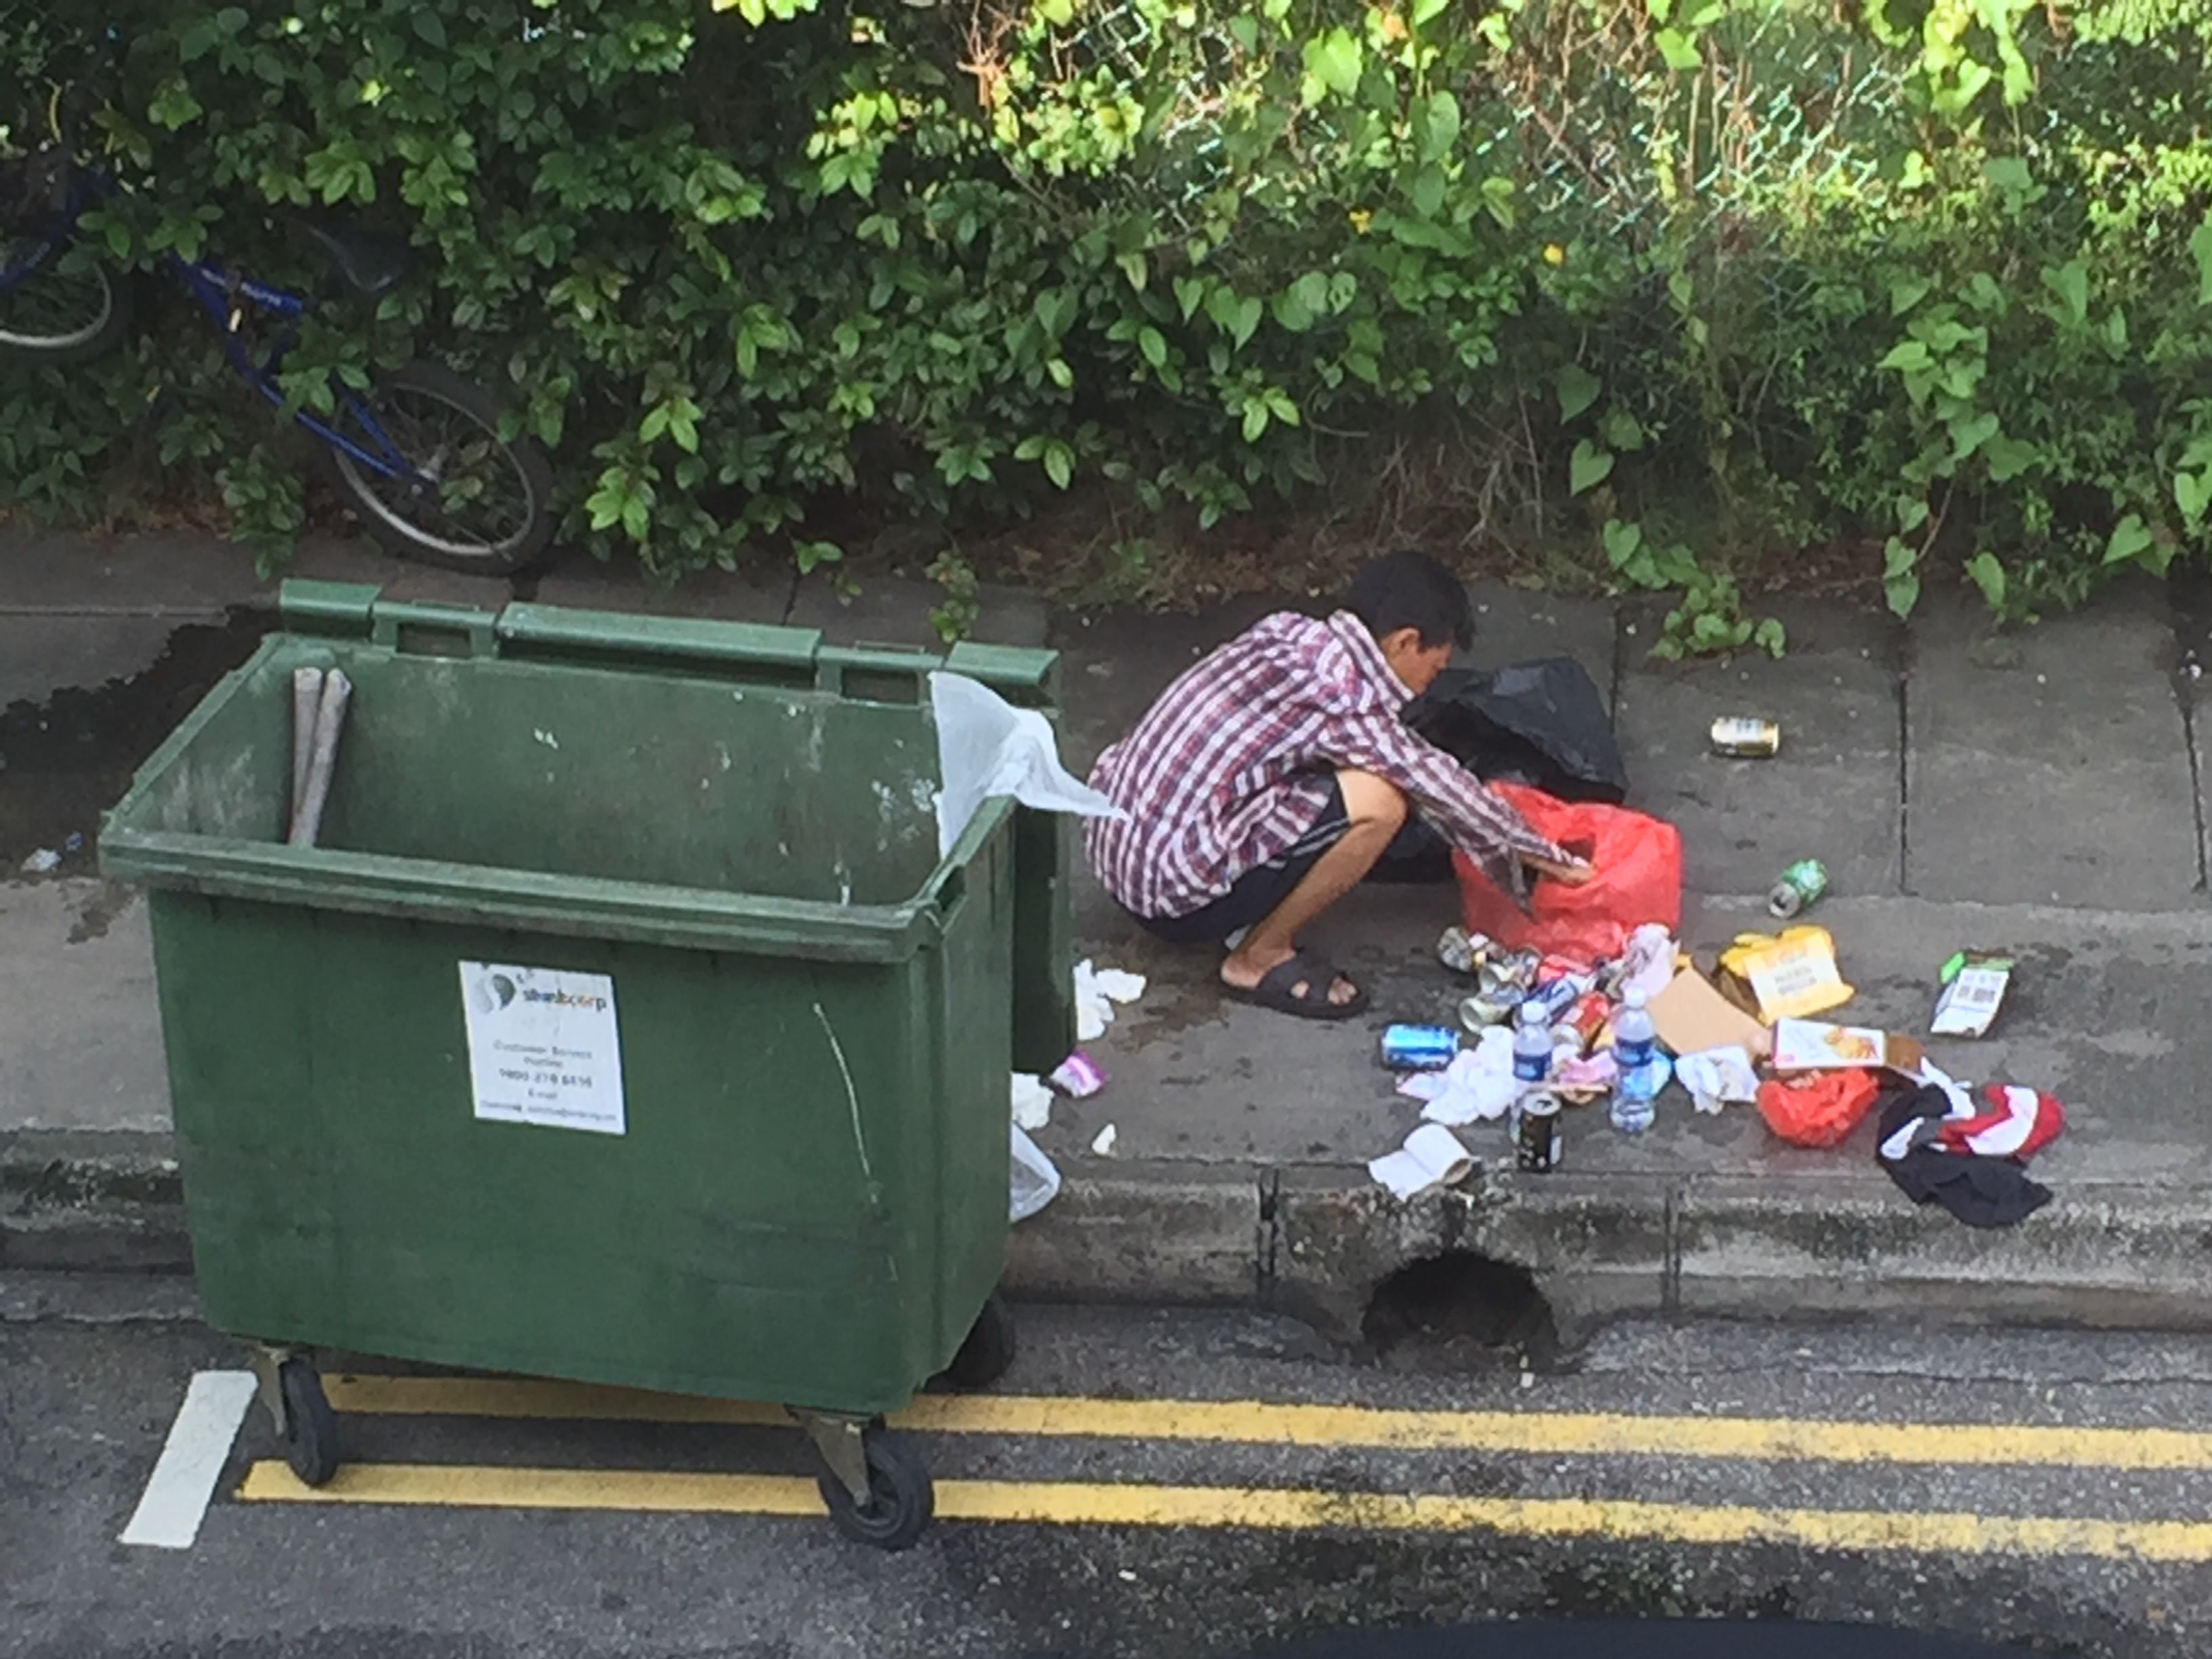Dumpster: (85, 569, 1084, 1564)
Person: (1076, 523, 1599, 1034)
